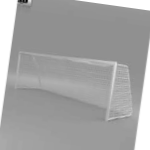goals: (13, 50, 134, 122)
